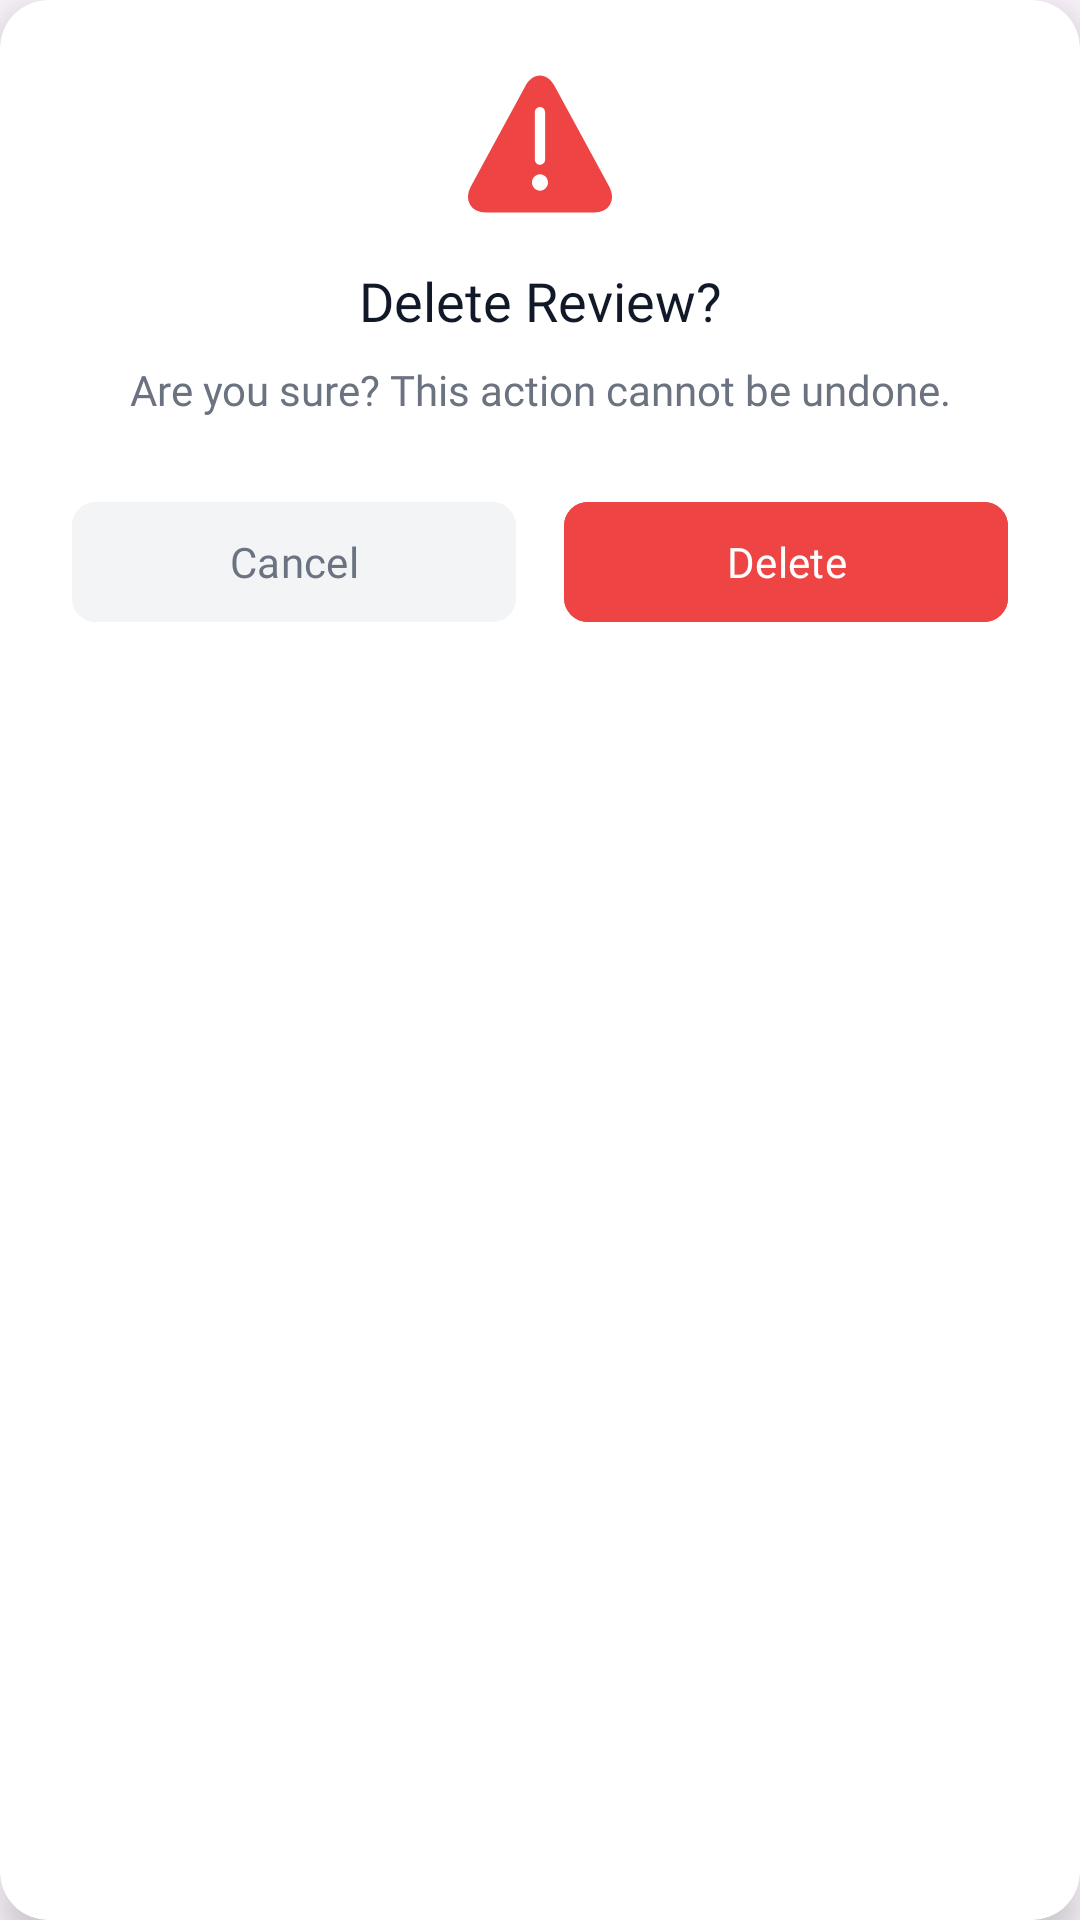

Screen size 1080×1920. Icon name, then its center in pixels as [x,y]:
warning: [540,144]
